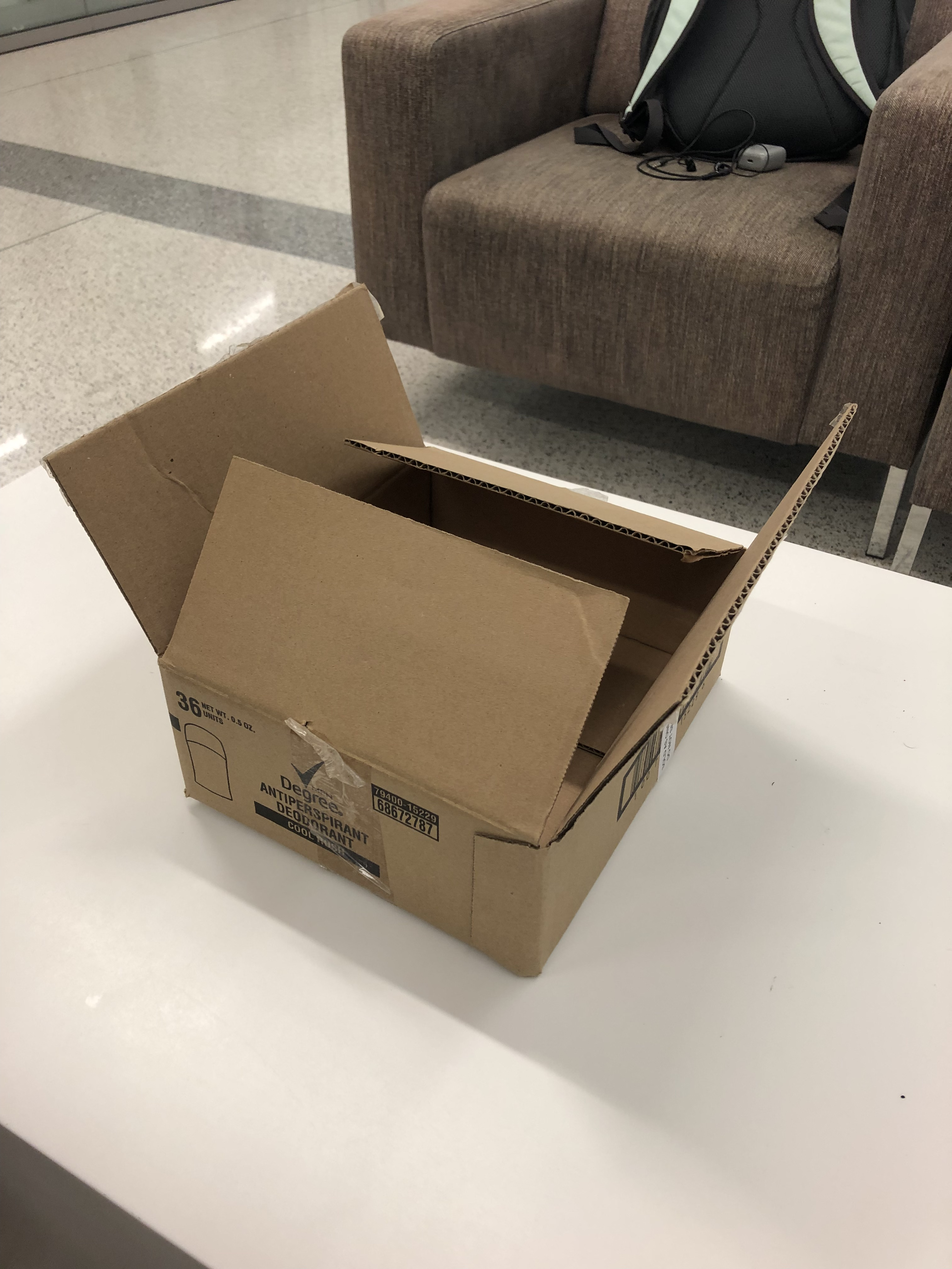box: (44, 285, 862, 979)
crushed: (43, 285, 864, 846)
